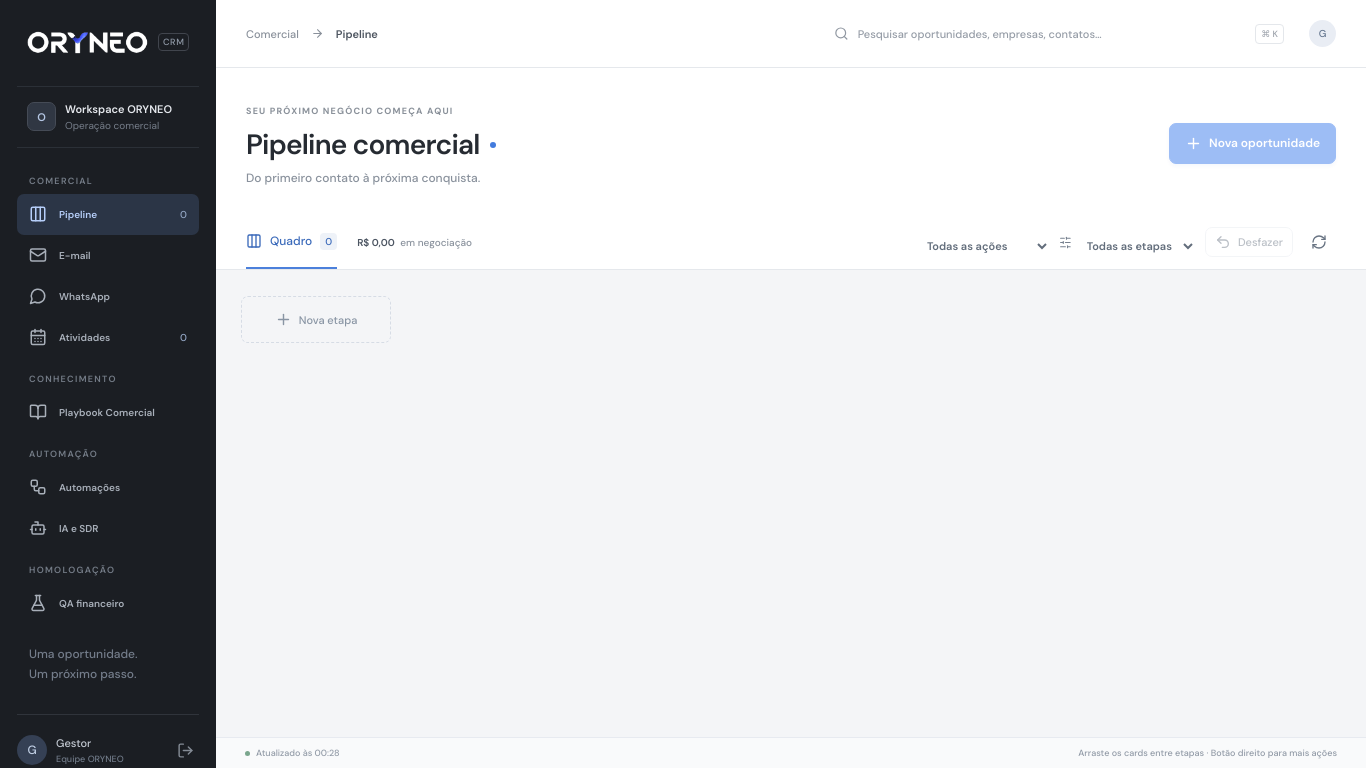
Test case: homologação financeira › mantém QA isolado em TEST e mostra falha sem sugerir cobrança criada
Click the button "QA financeiro" at (108, 603), box [17, 582, 199, 624]
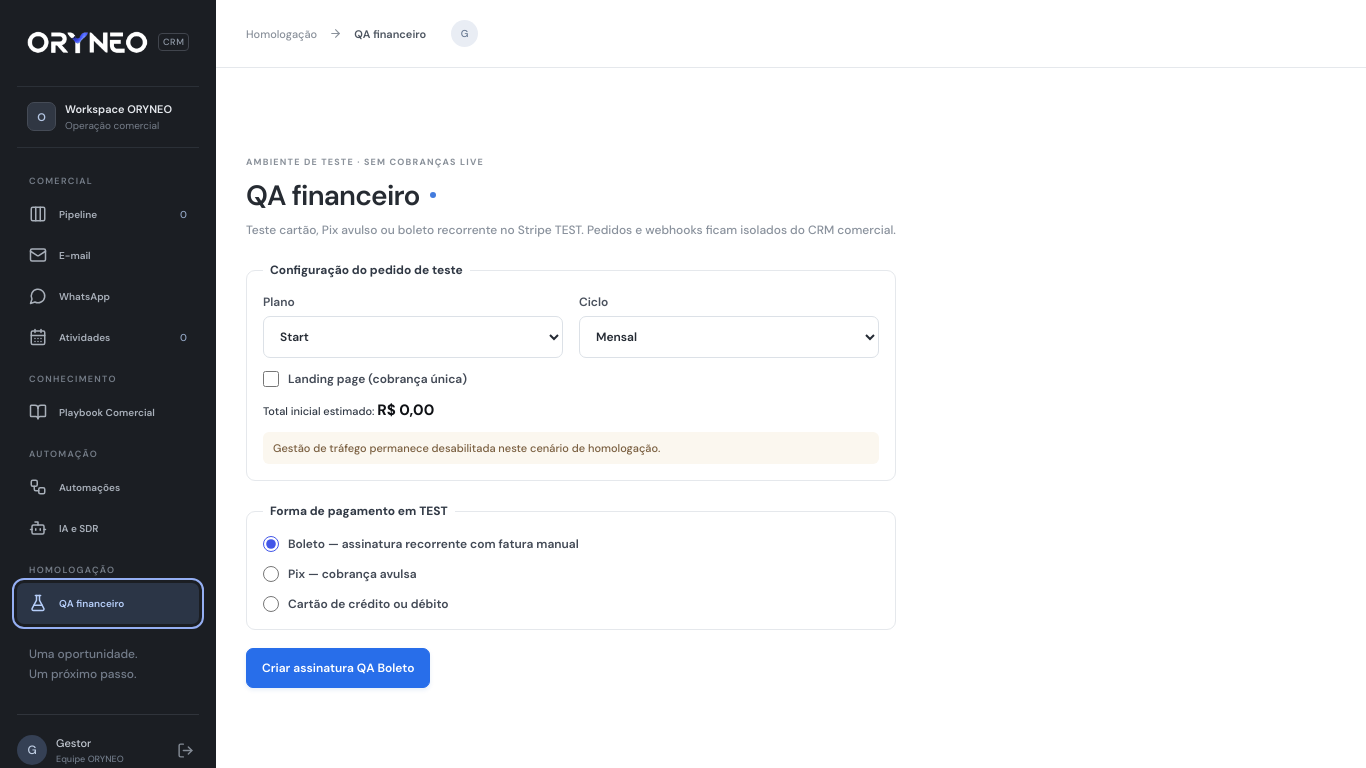
Click the button "Criar assinatura QA Boleto" at (338, 668), box [246, 648, 430, 688]
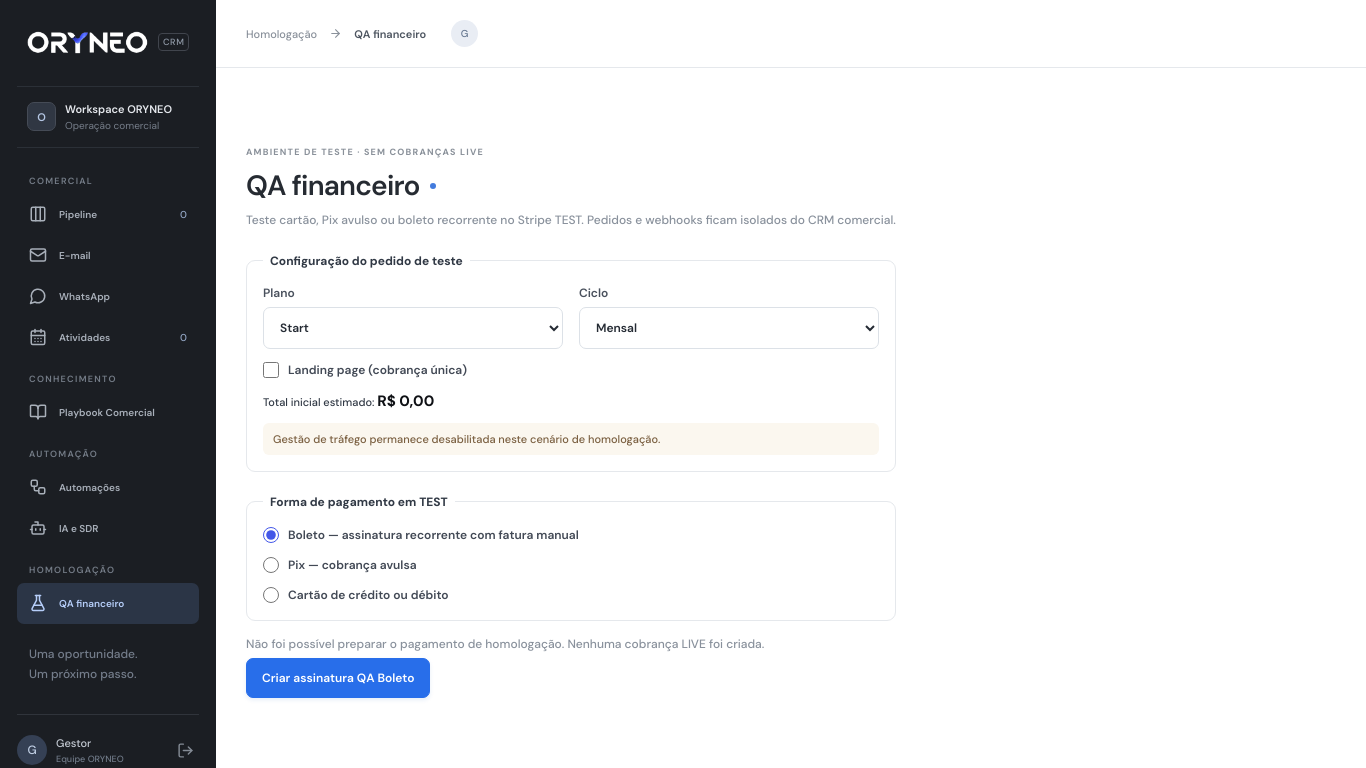
Expected: the message shows "Não foi possível preparar o pagamento de homologação.", [246, 636, 764, 652]
